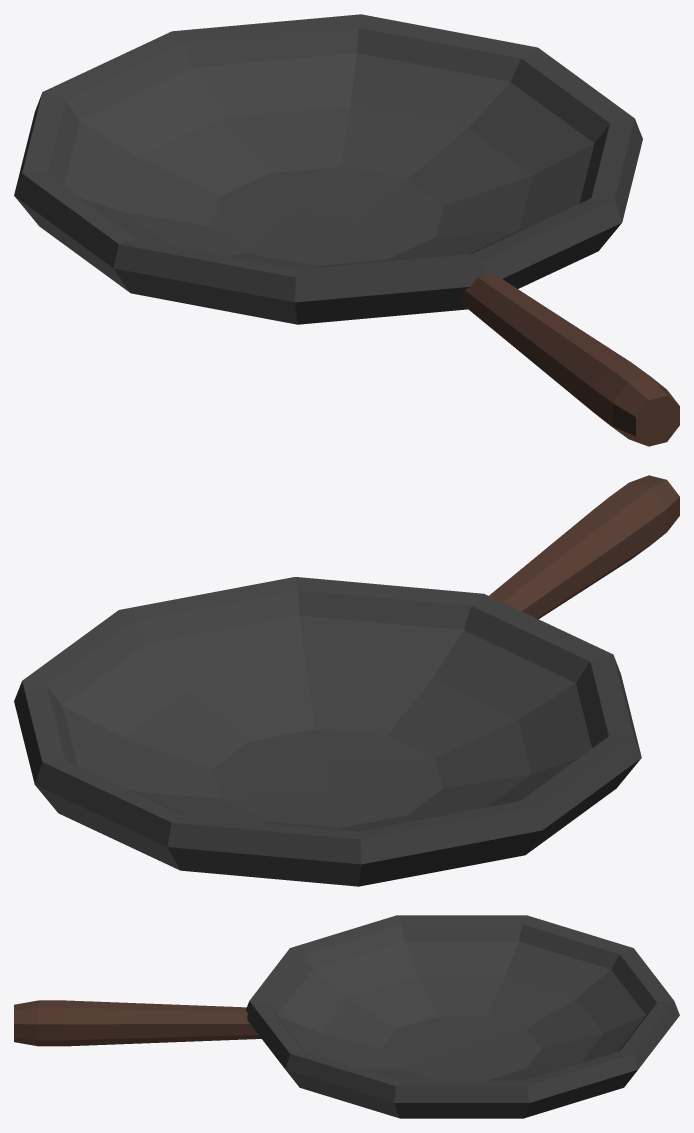
Rendered from frying_pan.glb.
The picture shows the model from 3 angles, top to bottom: view 1: azimuth 30°, elevation 25°; view 2: azimuth 150°, elevation 25°; view 3: azimuth 270°, elevation 25°; orthographic projection. The views are drawn at different scales.
Parts seen in each view (by area): view 1: frying_pan; view 2: frying_pan; view 3: frying_pan.
Boxes of the visible parts, x1,y1,x2,y2 form: frying_pan: (14,14,679,446); frying_pan: (14,475,679,886); frying_pan: (14,915,679,1118).
Bounding box in the file's own units: 0.2804 × 0.0408 × 0.45.
